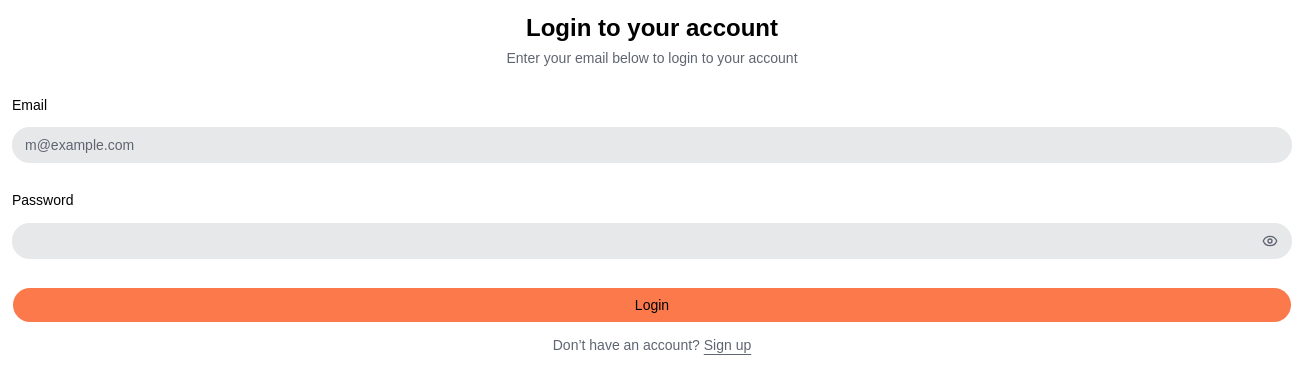
authentication forms › prevents duplicate submissions while the API request is pending
The image size is (1304, 372).
Type "person@example.com" into the field labelled "Email".
click(652, 145); type("person@example.com")  # box [12,127,1292,163]
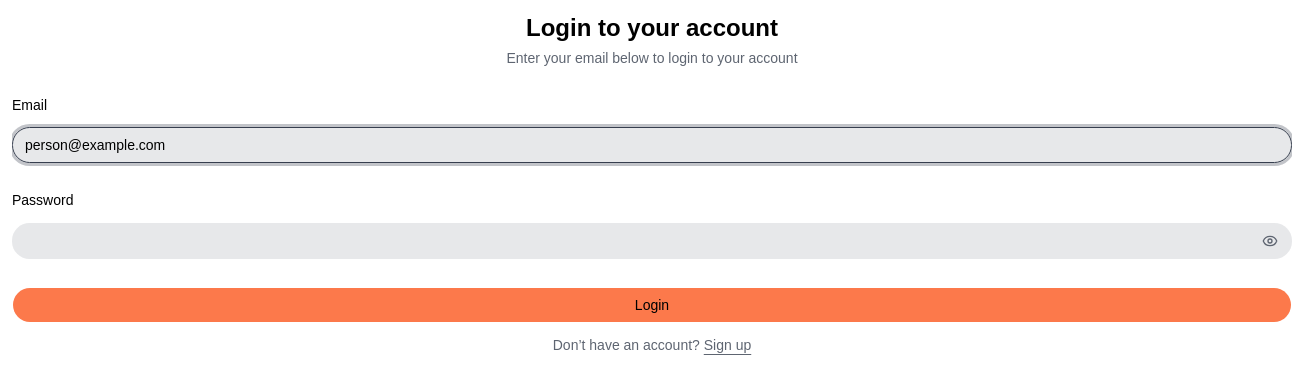
Type "Example123!" into the password field labelled "Password".
click(652, 240); type("Example123!")  # box [12,222,1292,258]
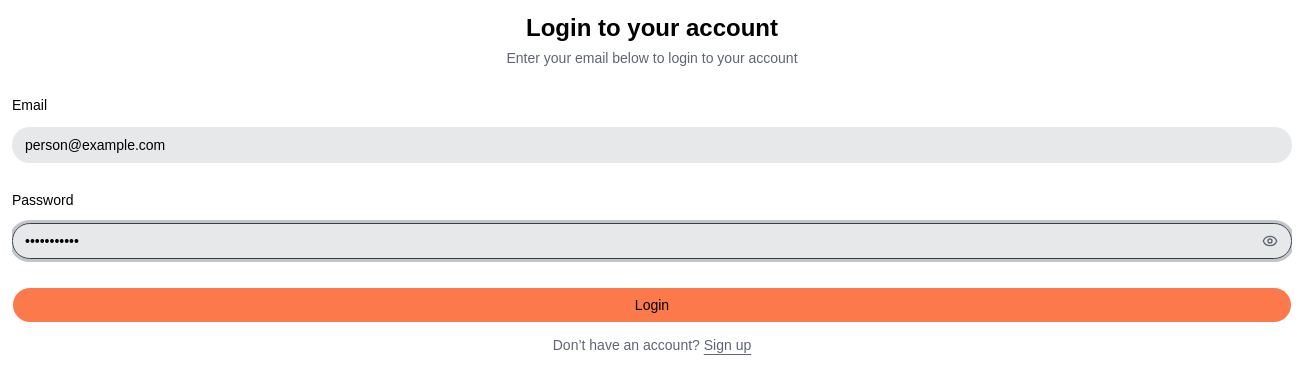
Click the button "Login".
click(652, 304)  # box [12,286,1292,322]
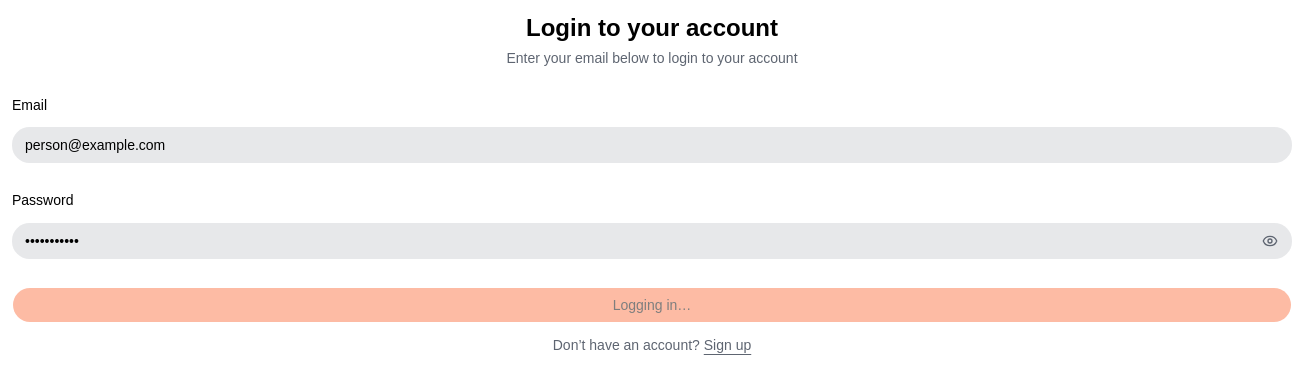
Now the button "Logging in…" is disabled
Click the button "Logging in…".
click(652, 304)  # box [12,286,1292,322]
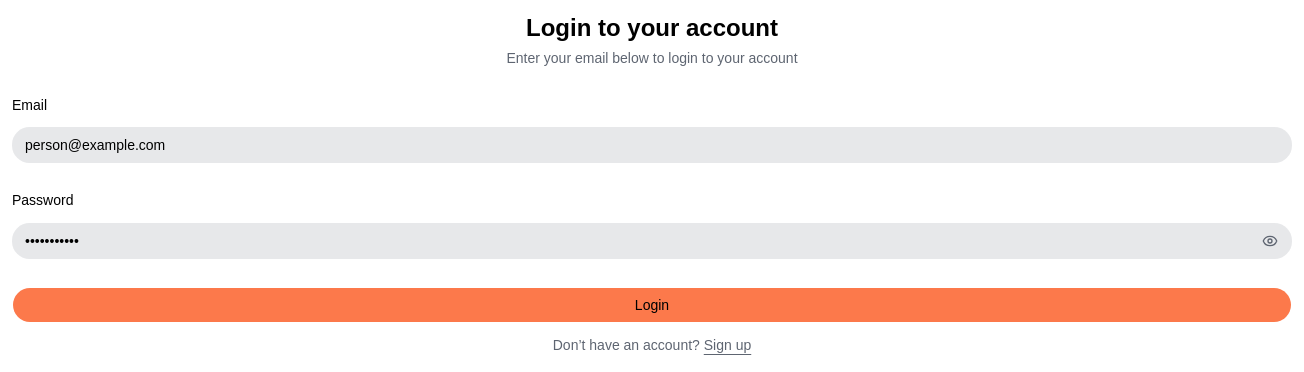
Now the button "Login" is enabled, box [12,286,1292,322]
